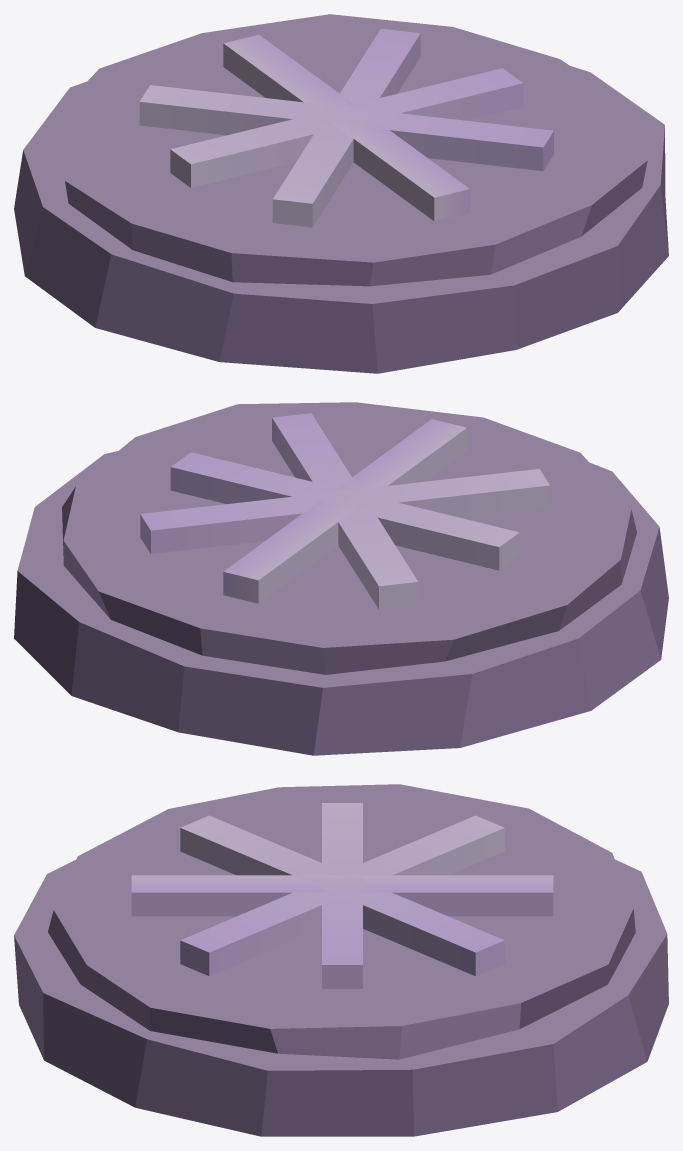
File: Spellstone_Cataclysm.glb
3 renders of one model, top to bottom at view 1: azimuth 30°, elevation 25°; view 2: azimuth 150°, elevation 25°; view 3: azimuth 270°, elevation 25°, orthographic.
Parts seen in each view (by area): view 1: Spellstone_Cataclysm; view 2: Spellstone_Cataclysm; view 3: Spellstone_Cataclysm.
Part boxes in pixels (left/top/right/bottom): Spellstone_Cataclysm: left=14, top=14, right=668, bottom=373; Spellstone_Cataclysm: left=14, top=402, right=668, bottom=755; Spellstone_Cataclysm: left=14, top=784, right=668, bottom=1136.
Bounding box in the file's own units: 0.8248 × 0.163 × 0.8263.
